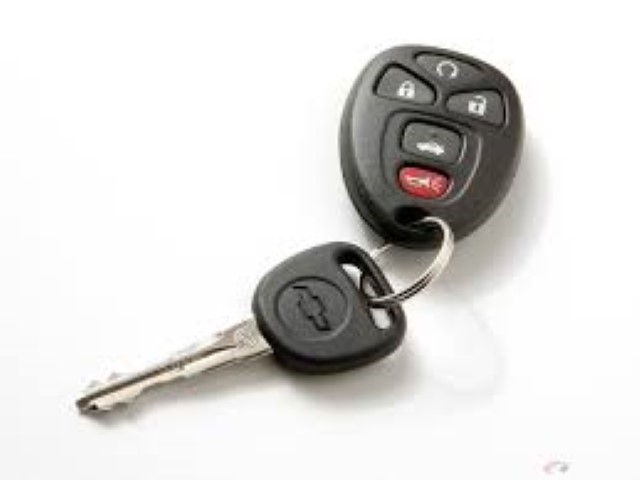key: (76, 245, 402, 402)
